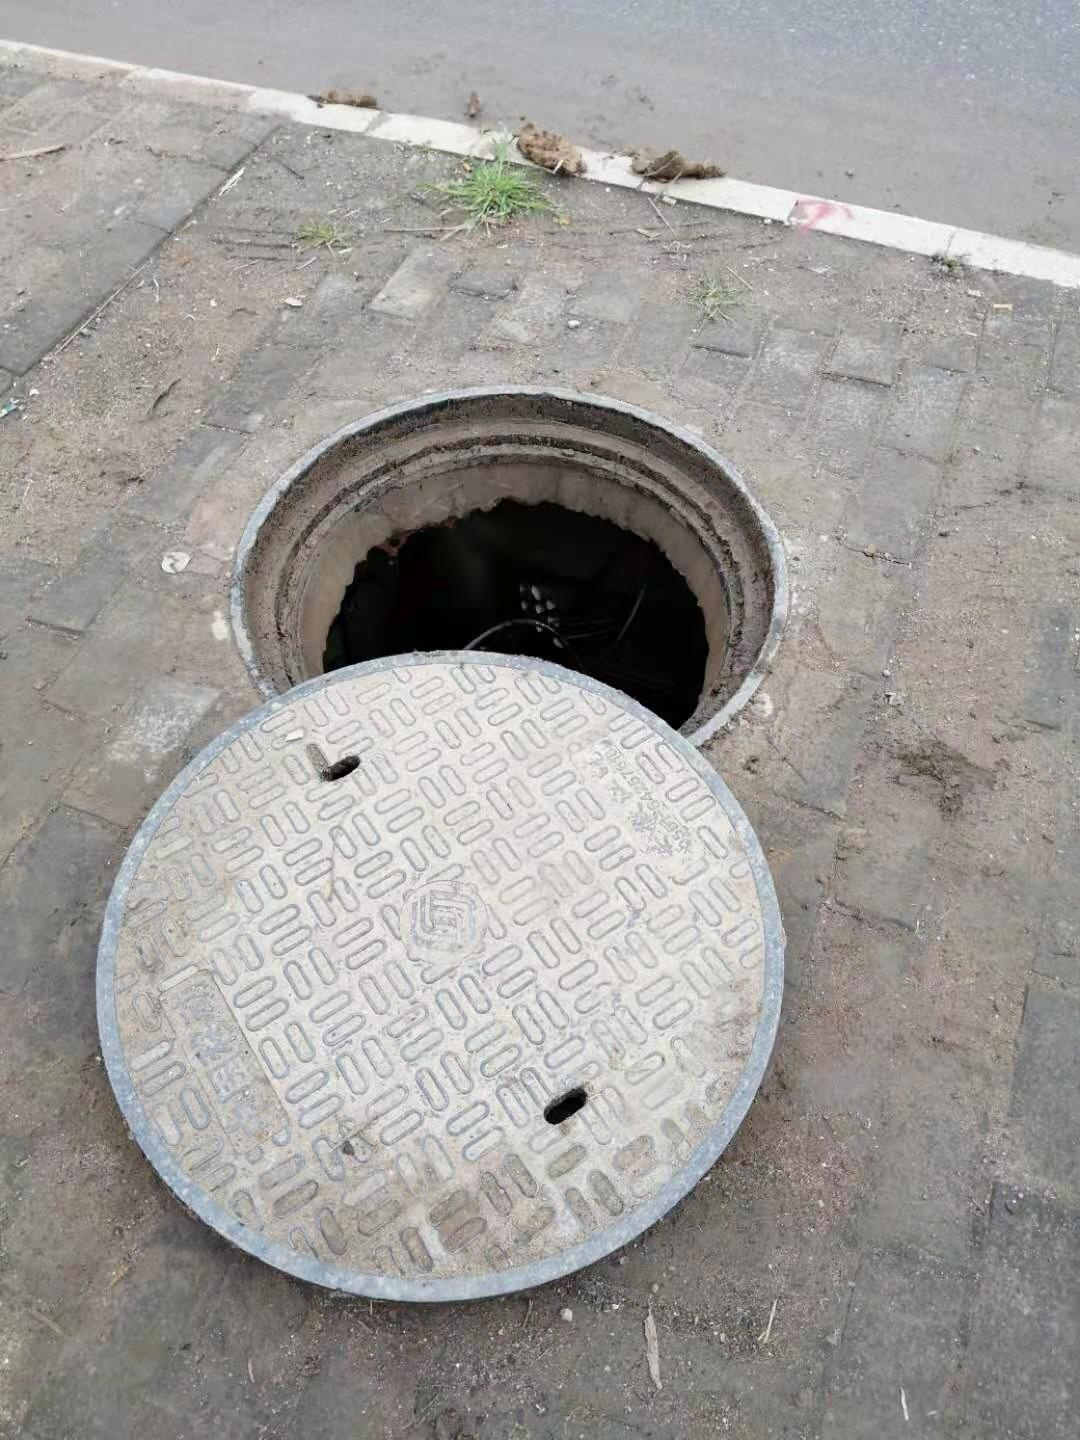uncovered: (93, 383, 785, 1301)
